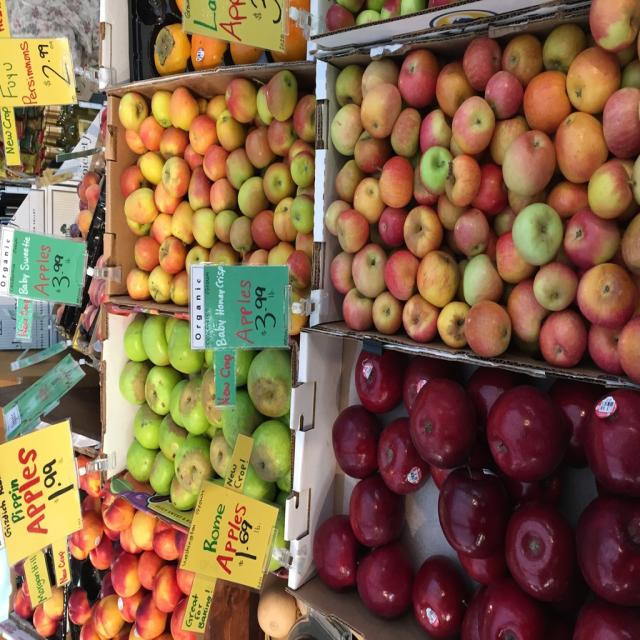Healty Apple: (324, 0, 640, 386), (309, 346, 640, 640), (118, 90, 316, 336), (68, 454, 194, 640), (322, 0, 458, 30), (509, 195, 568, 260), (80, 256, 107, 330), (76, 174, 102, 244), (42, 586, 64, 618), (9, 588, 30, 621), (32, 607, 56, 634)
